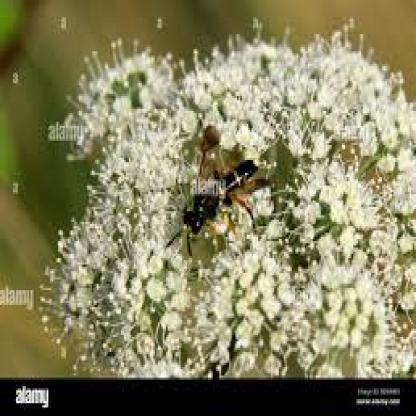sawfly: (168, 125, 265, 255)
